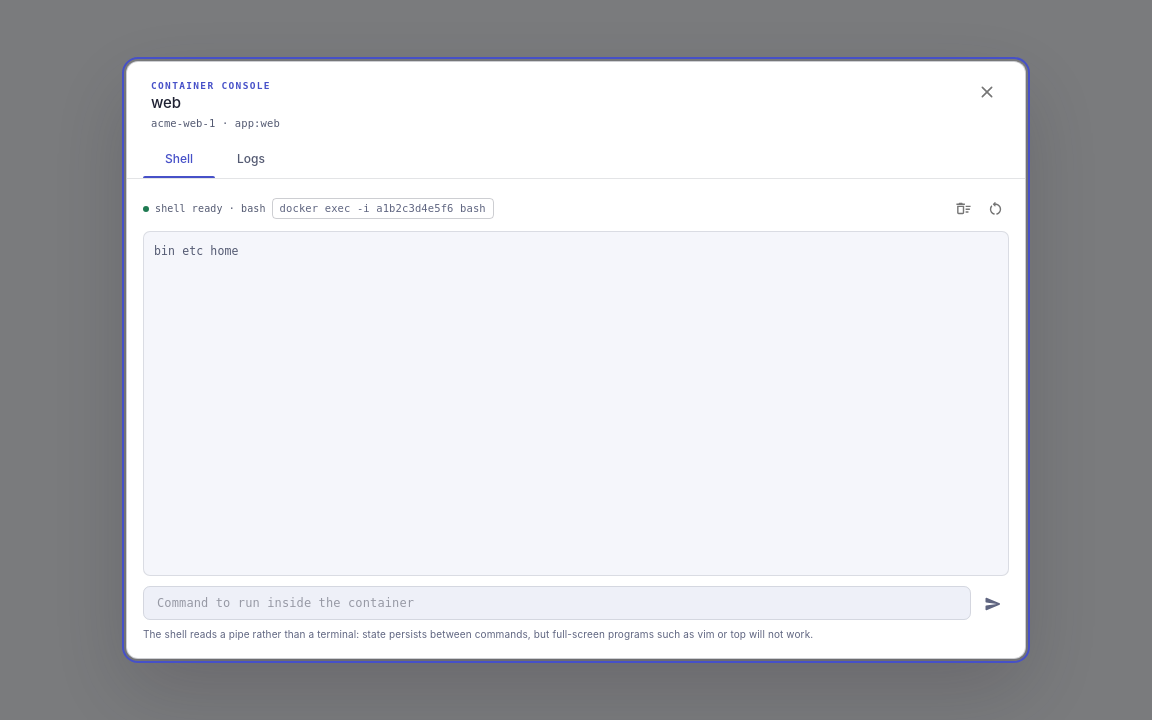
Test: ContainerConsoleDialog › opens a shell, streams its output and sends a command with a local echo
This screenshot has width=1152, height=720.
Check: the text "shell ready · bash" is shown, box [155,201,266,216]
Check: the text named "Shell session output" reads "bin etc home", box [154,244,238,258]
In the field labelled "Command to run inside the container": (557, 603) [143,588,971,619], type "ls -la"
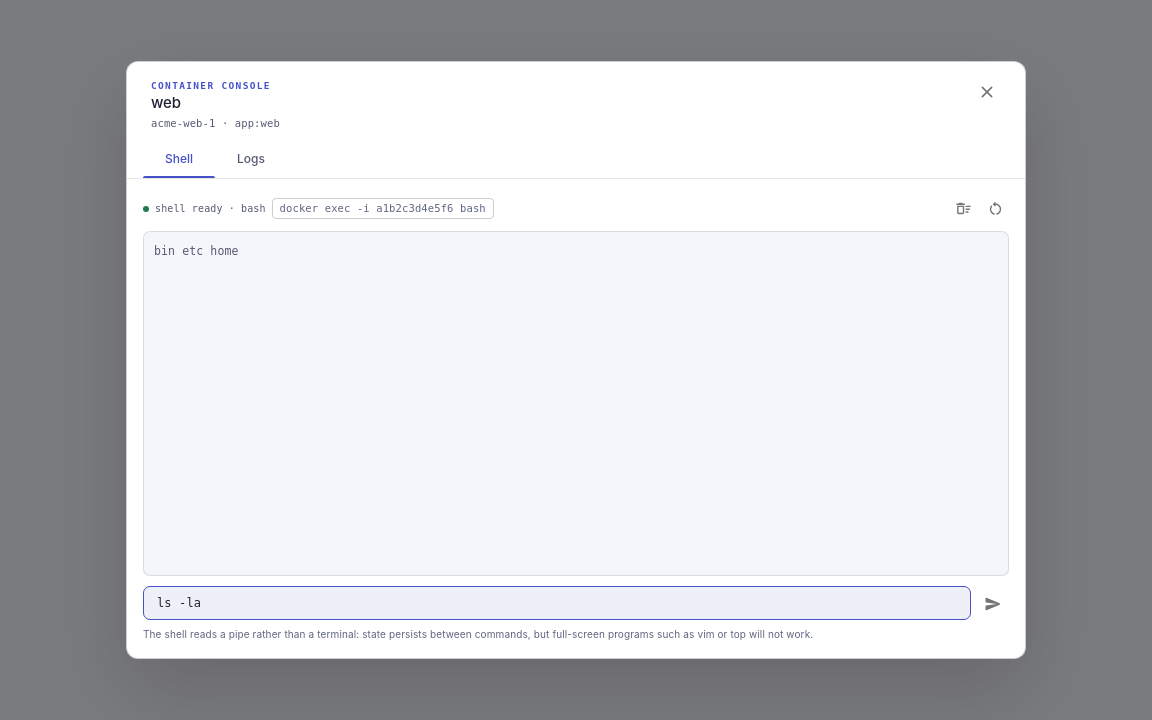
Press Enter
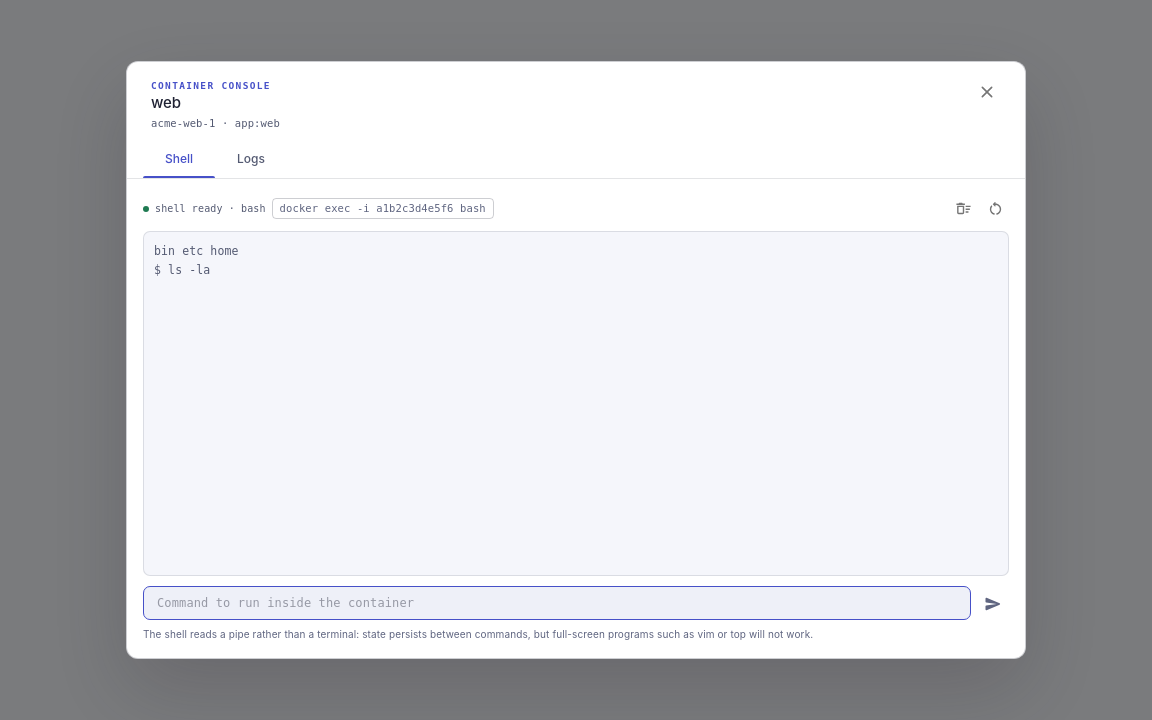
Check: the text named "Shell session output" shows "$ ls -la", box [154,244,238,277]
Check: the field labelled "Command to run inside the container" is empty, box [143,588,971,619]
